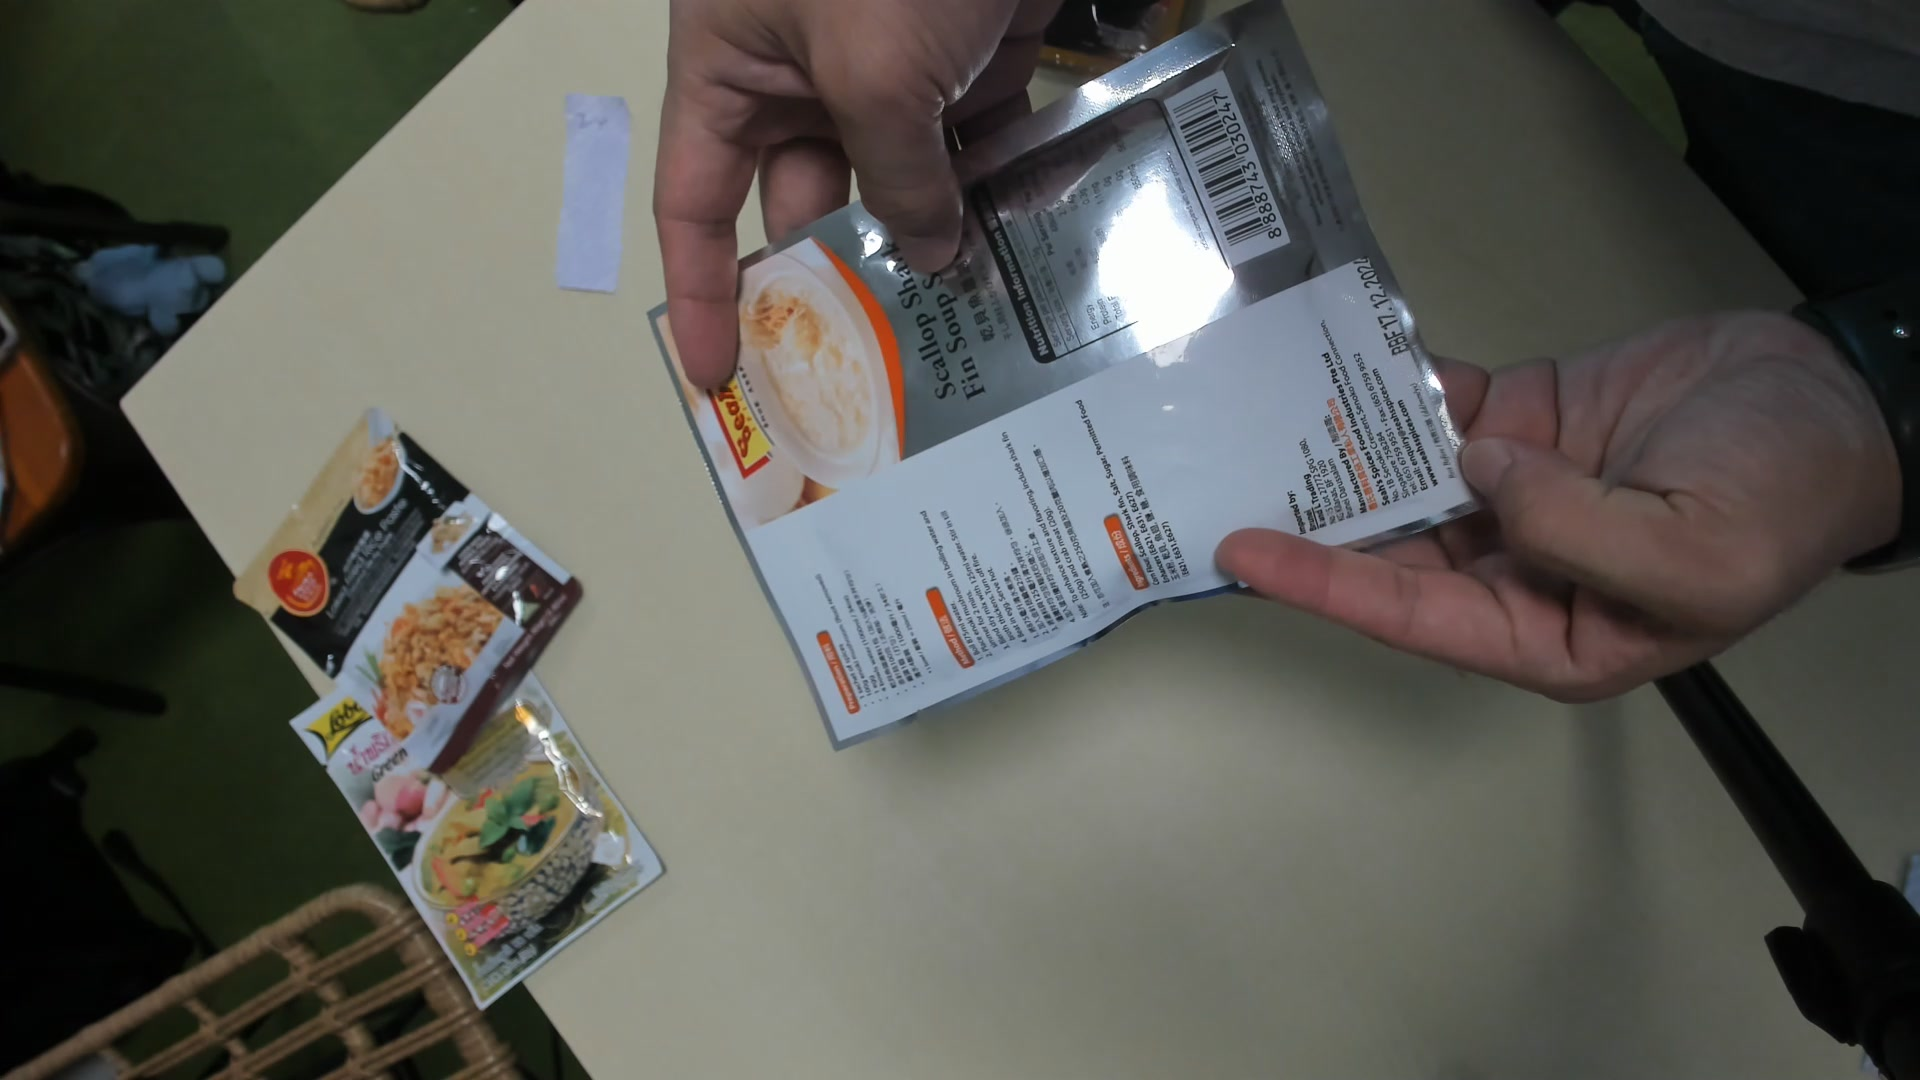OtherSauceDressing_0-99g_Halal_NonHealthy: (644, 15, 1480, 756)
